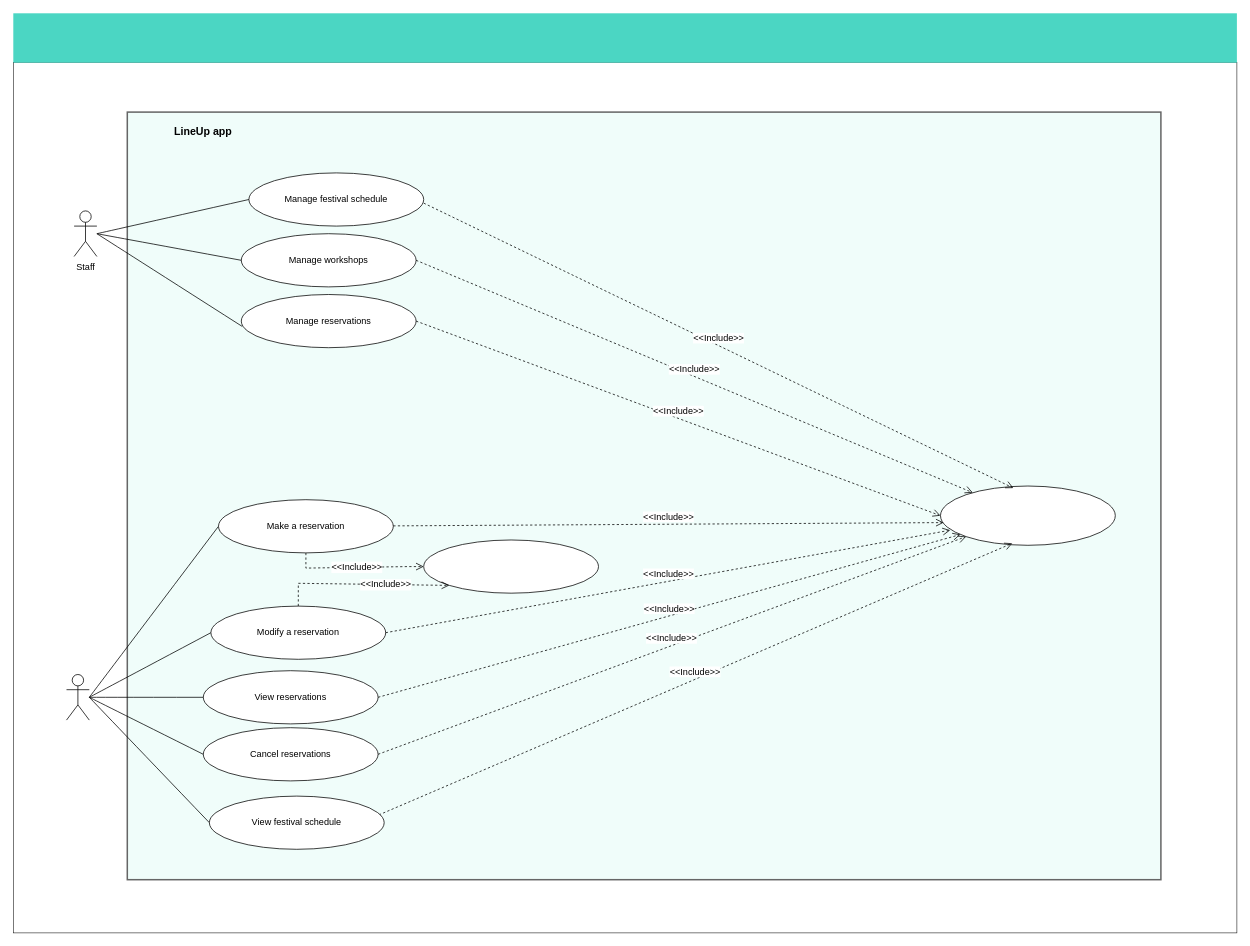
The diagram is 1250 pixels wide and 946 high, and some of its shapes have lost their labels. The centre of each missing label's shape, as x and y in pixels:
Authenticate: the point at 1027,515
Check place availability: the point at 510,566
Diagramme de cas d'utilisation - V1: the point at 625,37
FestivalGoer: the point at 77,697
